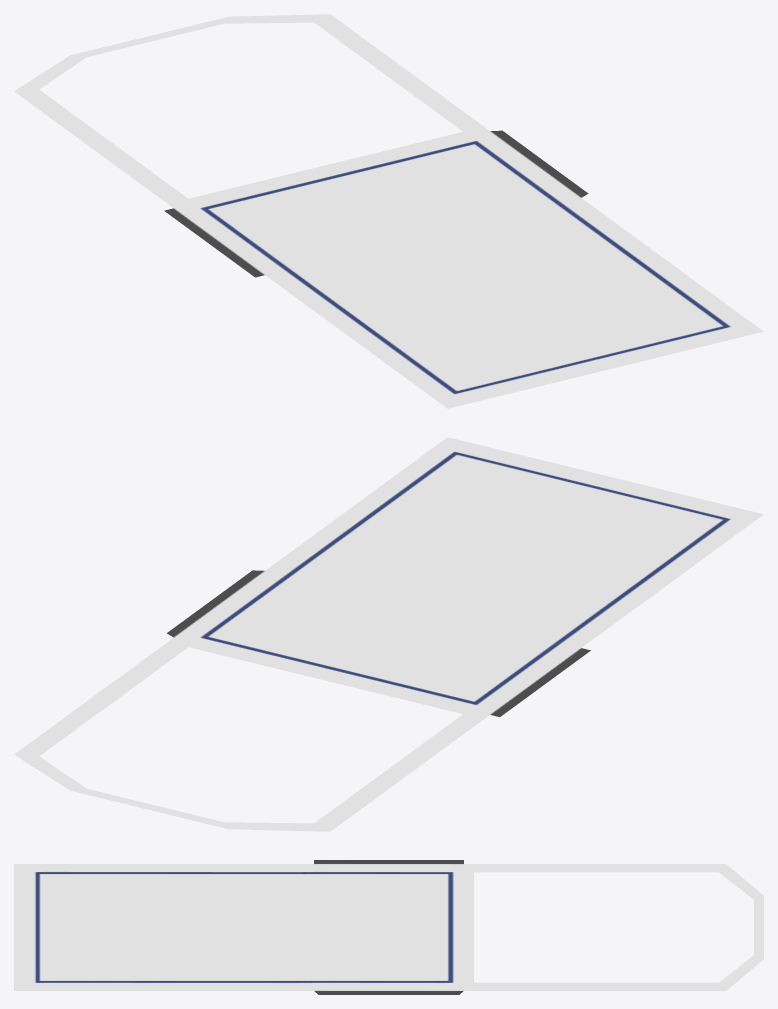
The model's file is Lift_Floor_01_Level_03.fbx.
3 renders of one model, top to bottom at view 1: azimuth 30°, elevation 25°; view 2: azimuth 150°, elevation 25°; view 3: azimuth 270°, elevation 25°, orthographic. The views are drawn at different scales.
Visible parts, largest first — view 1: Lift_Floor_01_Level_03; view 2: Lift_Floor_01_Level_03; view 3: Lift_Floor_01_Level_03.
Part boxes in pixels (x1,y1,x2,y2): Lift_Floor_01_Level_03: (14, 14, 763, 408); Lift_Floor_01_Level_03: (14, 437, 763, 831); Lift_Floor_01_Level_03: (14, 860, 763, 994).
Size of the model in its own units: 1700 by 0.000244 by 4000.
